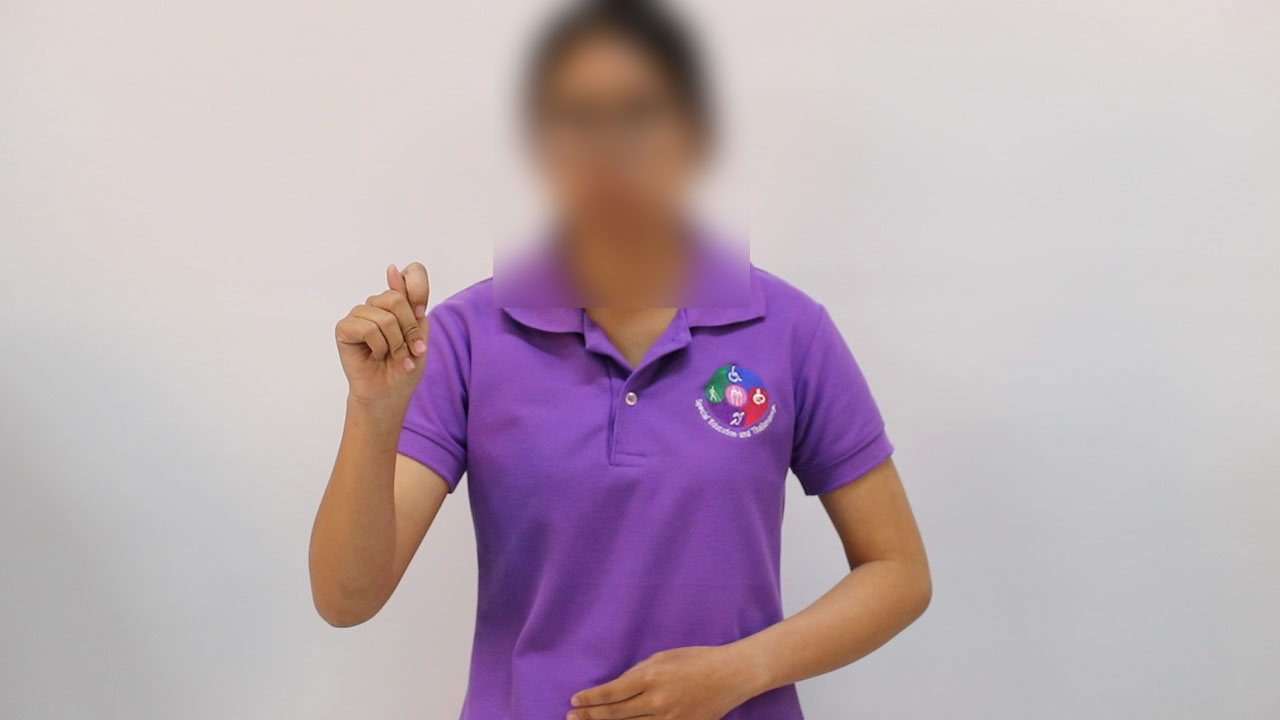tor: (312, 247, 461, 416)
